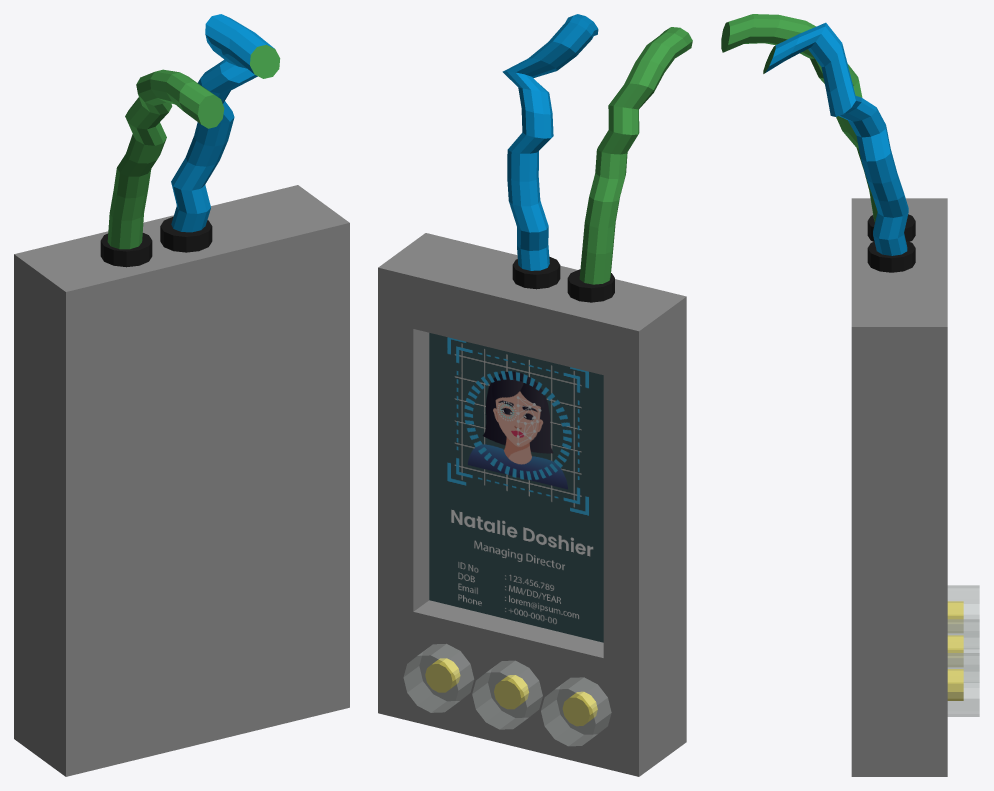
Rendered from BioMetric.fbx.
3 renders of one model, left to right at view 1: azimuth 30°, elevation 25°; view 2: azimuth 150°, elevation 25°; view 3: azimuth 270°, elevation 25°, orthographic. The views are drawn at different scales.
Parts seen in each view (by area): view 1: polySurface2; view 2: polySurface2; view 3: polySurface2.
Boxes of the visible parts, box(x1,y1,x2,y2) form: polySurface2: box(14, 14, 349, 776); polySurface2: box(378, 14, 692, 776); polySurface2: box(721, 14, 979, 776).
Bounding box in the file's own units: 2.19 × 5.45 × 1.86.
7 materials, 1 textured.
